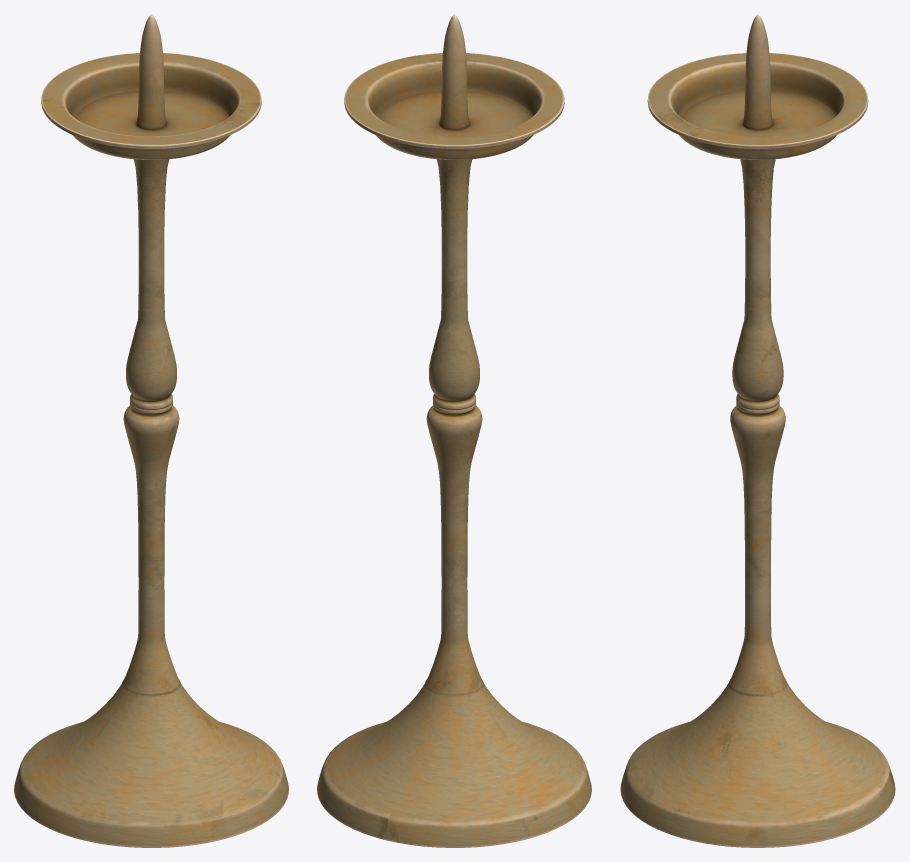
File: SM_Candlestick128.fbx
3 views of the same model, side by side, from view 1: azimuth 30°, elevation 25°; view 2: azimuth 150°, elevation 25°; view 3: azimuth 270°, elevation 25° (orthographic).
Parts seen in each view (by area): view 1: SM_Candlestick128; view 2: SM_Candlestick128; view 3: SM_Candlestick128.
Boxes of the visible parts, box(x1,y1,x2,y2) form: SM_Candlestick128: box(14, 14, 288, 847); SM_Candlestick128: box(317, 14, 591, 847); SM_Candlestick128: box(620, 14, 895, 847).
Bounding box in the file's own units: 12.82 × 39.92 × 12.82.
Materials: 1 (1 with a texture image).
